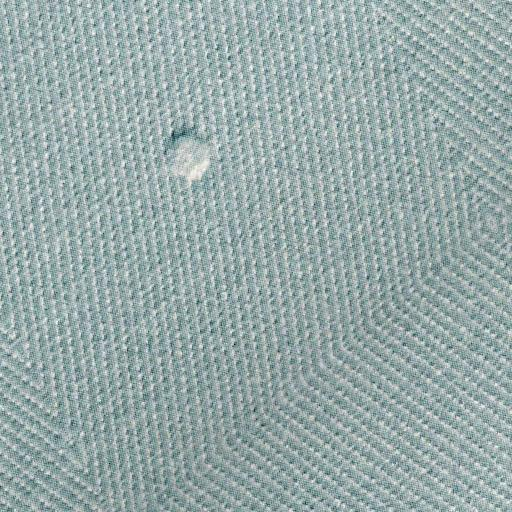knot: (156, 123, 220, 183)
